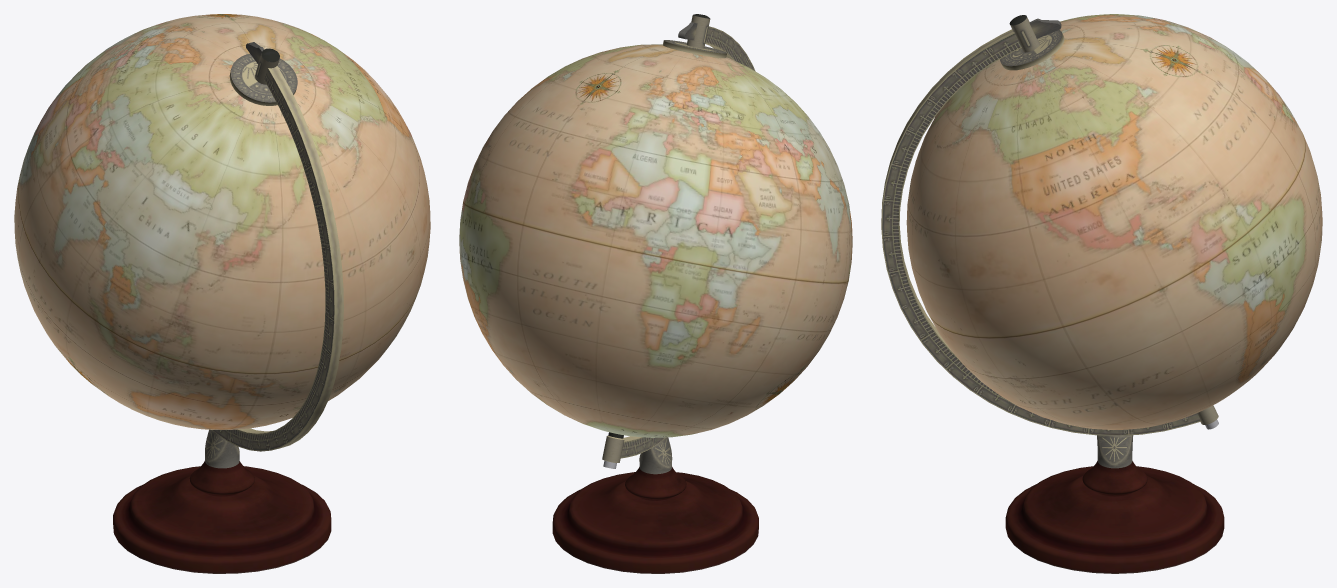
File: antique_globe.5df3c8db.glb
3 renders of one model, left to right at view 1: azimuth 30°, elevation 25°; view 2: azimuth 150°, elevation 25°; view 3: azimuth 270°, elevation 25°, orthographic. The views are drawn at different scales.
Parts seen in each view (by area): view 1: Globe; view 2: Globe; view 3: Globe.
Boxes of the visible parts, x1=… form: Globe: x1=14, y1=14, x2=430, y2=573; Globe: x1=459, y1=14, x2=852, y2=573; Globe: x1=881, y1=14, x2=1322, y2=573.
Size of the model in its own units: 0.2998 by 0.4065 by 0.3182.
1 material, 1 textured.
